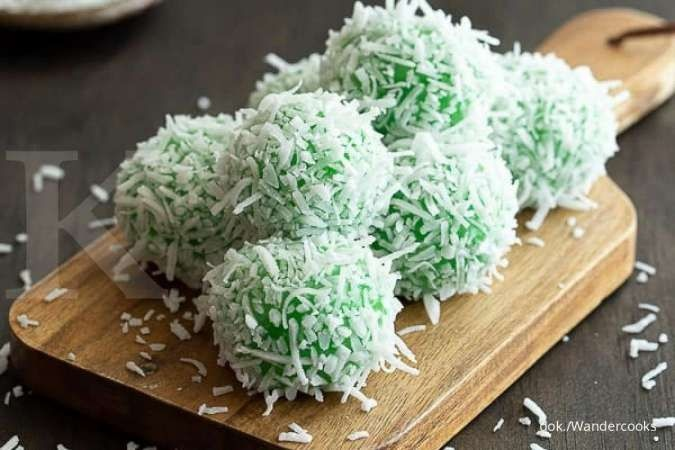klepon: (182, 217, 425, 419), (206, 76, 392, 255)
